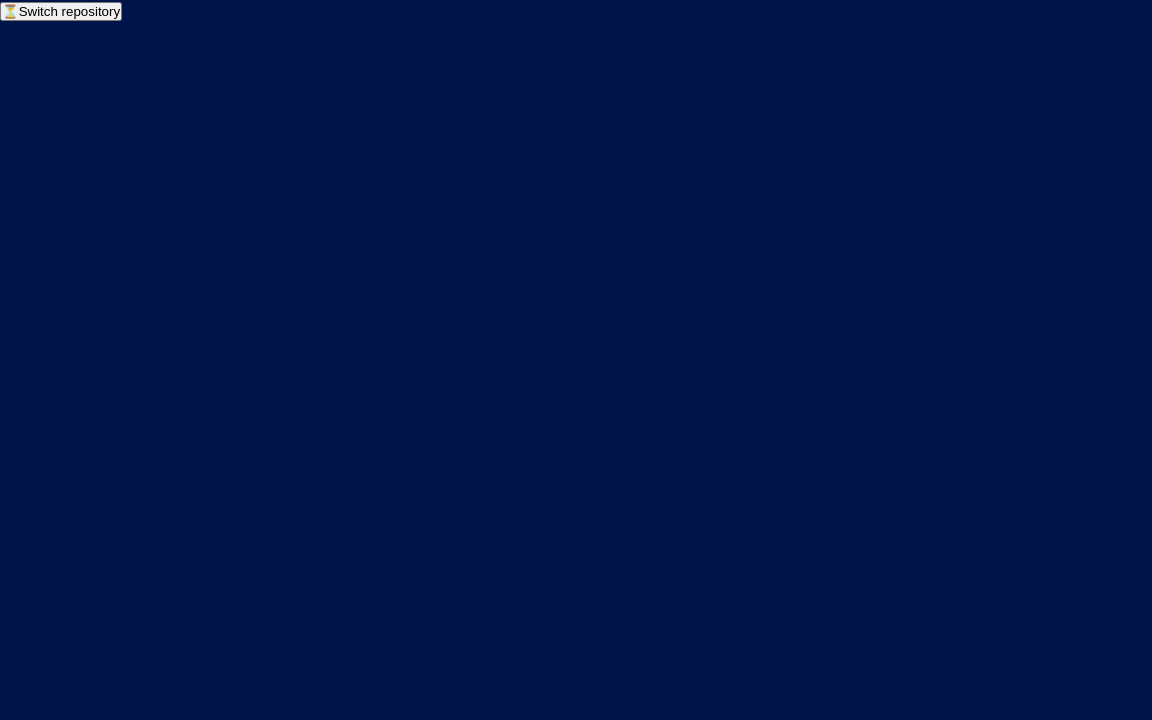
it: Repo switcher — blocked popup interactions › dismisses popup when overlay backdrop is clicked
The width and height of the screenshot is (1152, 720).
What coordinates should you click on to do the following:
click the button with test id "switcher-btn"
I would click on:
 (61, 12)
Its box is [0,2,122,21].
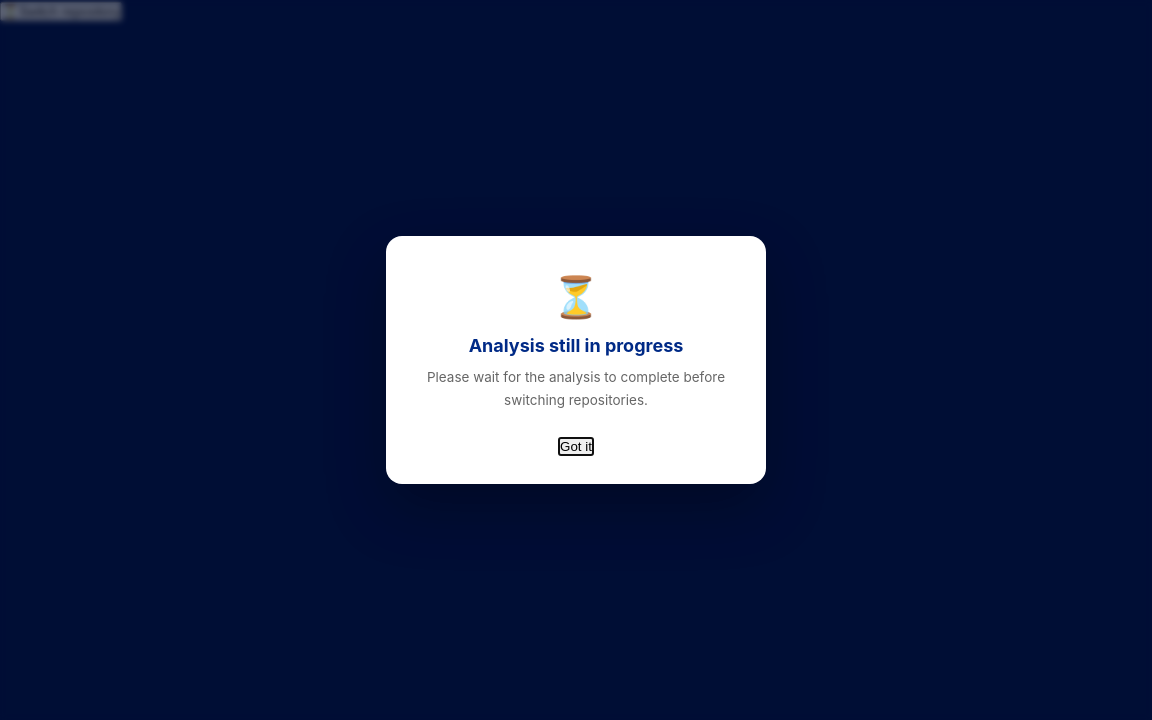
Expected: the dialog is shown
What coordinates should you click on to do the following:
click the dialog
I would click on:
 (69, 360)
Its box is [0,0,1151,719].
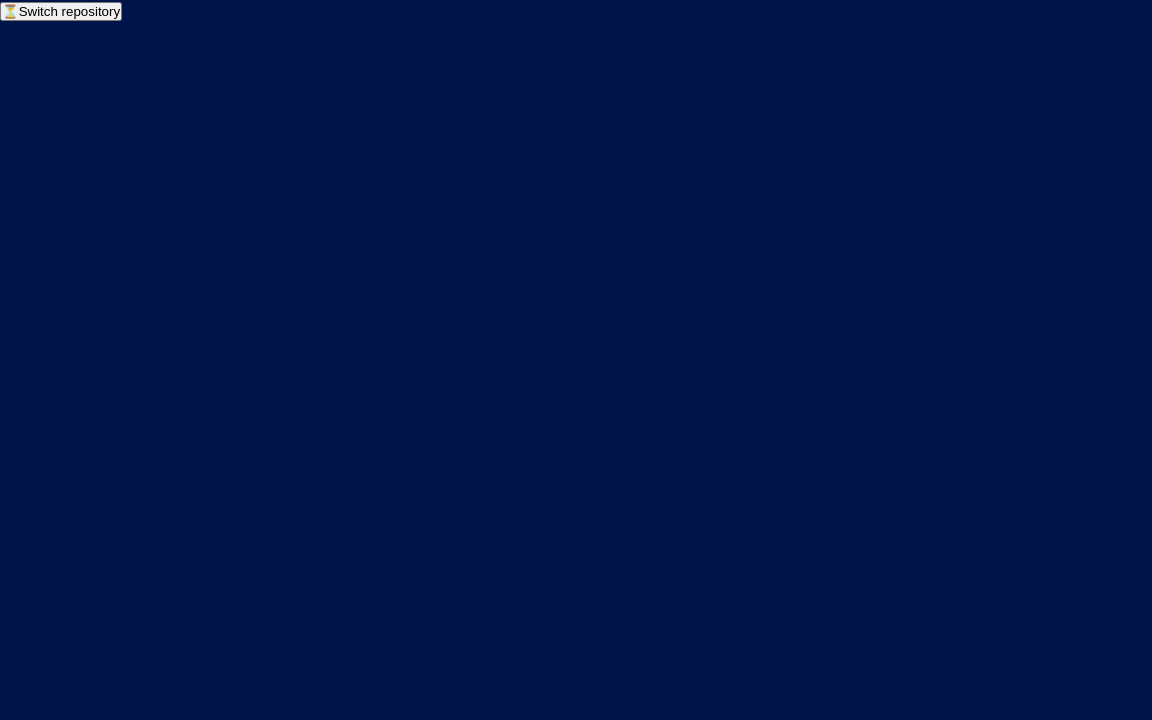
Expected: the dialog is gone
